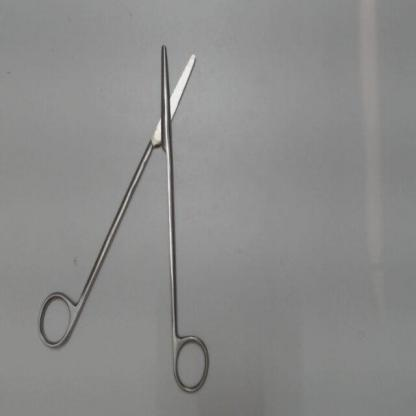9 Metzenbaum Scissors: (34, 40, 214, 399)
